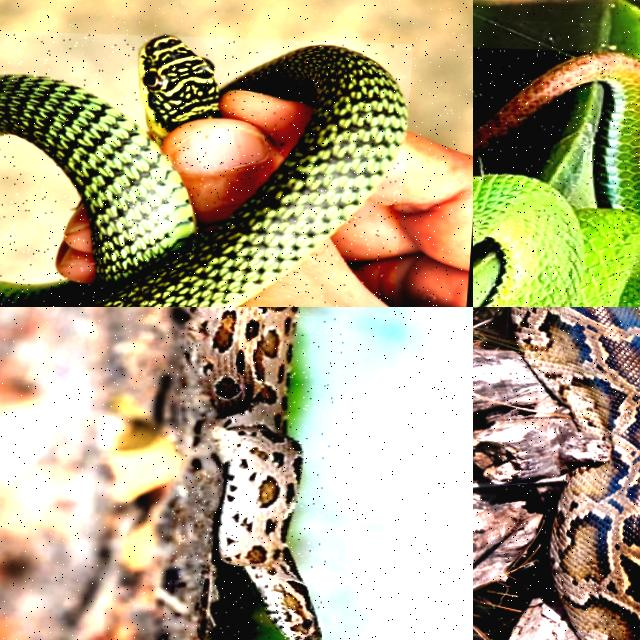Chrysopelea ornata: (0, 46, 406, 306)
Daboia siamensis: (191, 307, 320, 639)
Python bivittatus: (512, 307, 639, 639)
Trimeresurus macrops: (473, 53, 639, 306)
snake: (0, 46, 406, 306), (191, 307, 320, 639), (512, 307, 639, 639), (473, 53, 639, 306)
